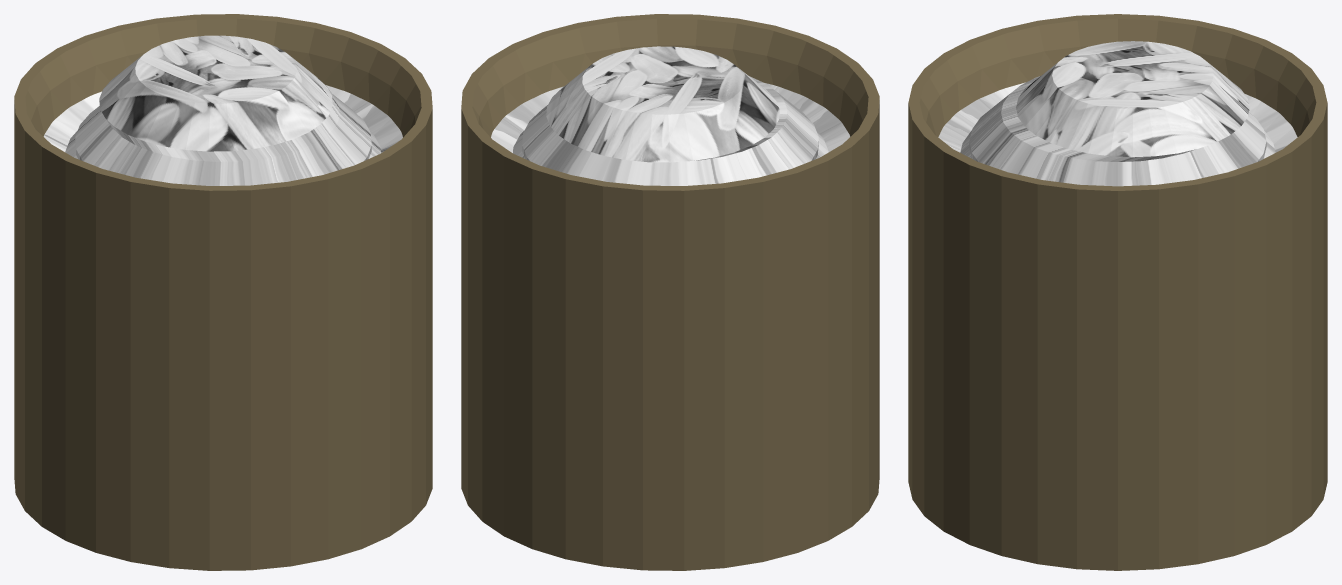
File: boxnasi.glb
The picture shows the model from 3 angles, left to right: view 1: azimuth 30°, elevation 25°; view 2: azimuth 150°, elevation 25°; view 3: azimuth 270°, elevation 25°; orthographic projection.
Parts seen in each view (by area): view 1: Cylinder; view 2: Cylinder; view 3: Cylinder.
Part boxes in pixels (x1,y1,x2,y2): Cylinder: (14, 14, 432, 570); Cylinder: (461, 14, 879, 570); Cylinder: (908, 14, 1327, 570).
Bounding box in the file's own units: 0.5638 × 0.6044 × 0.5638.
2 materials, 1 textured.
